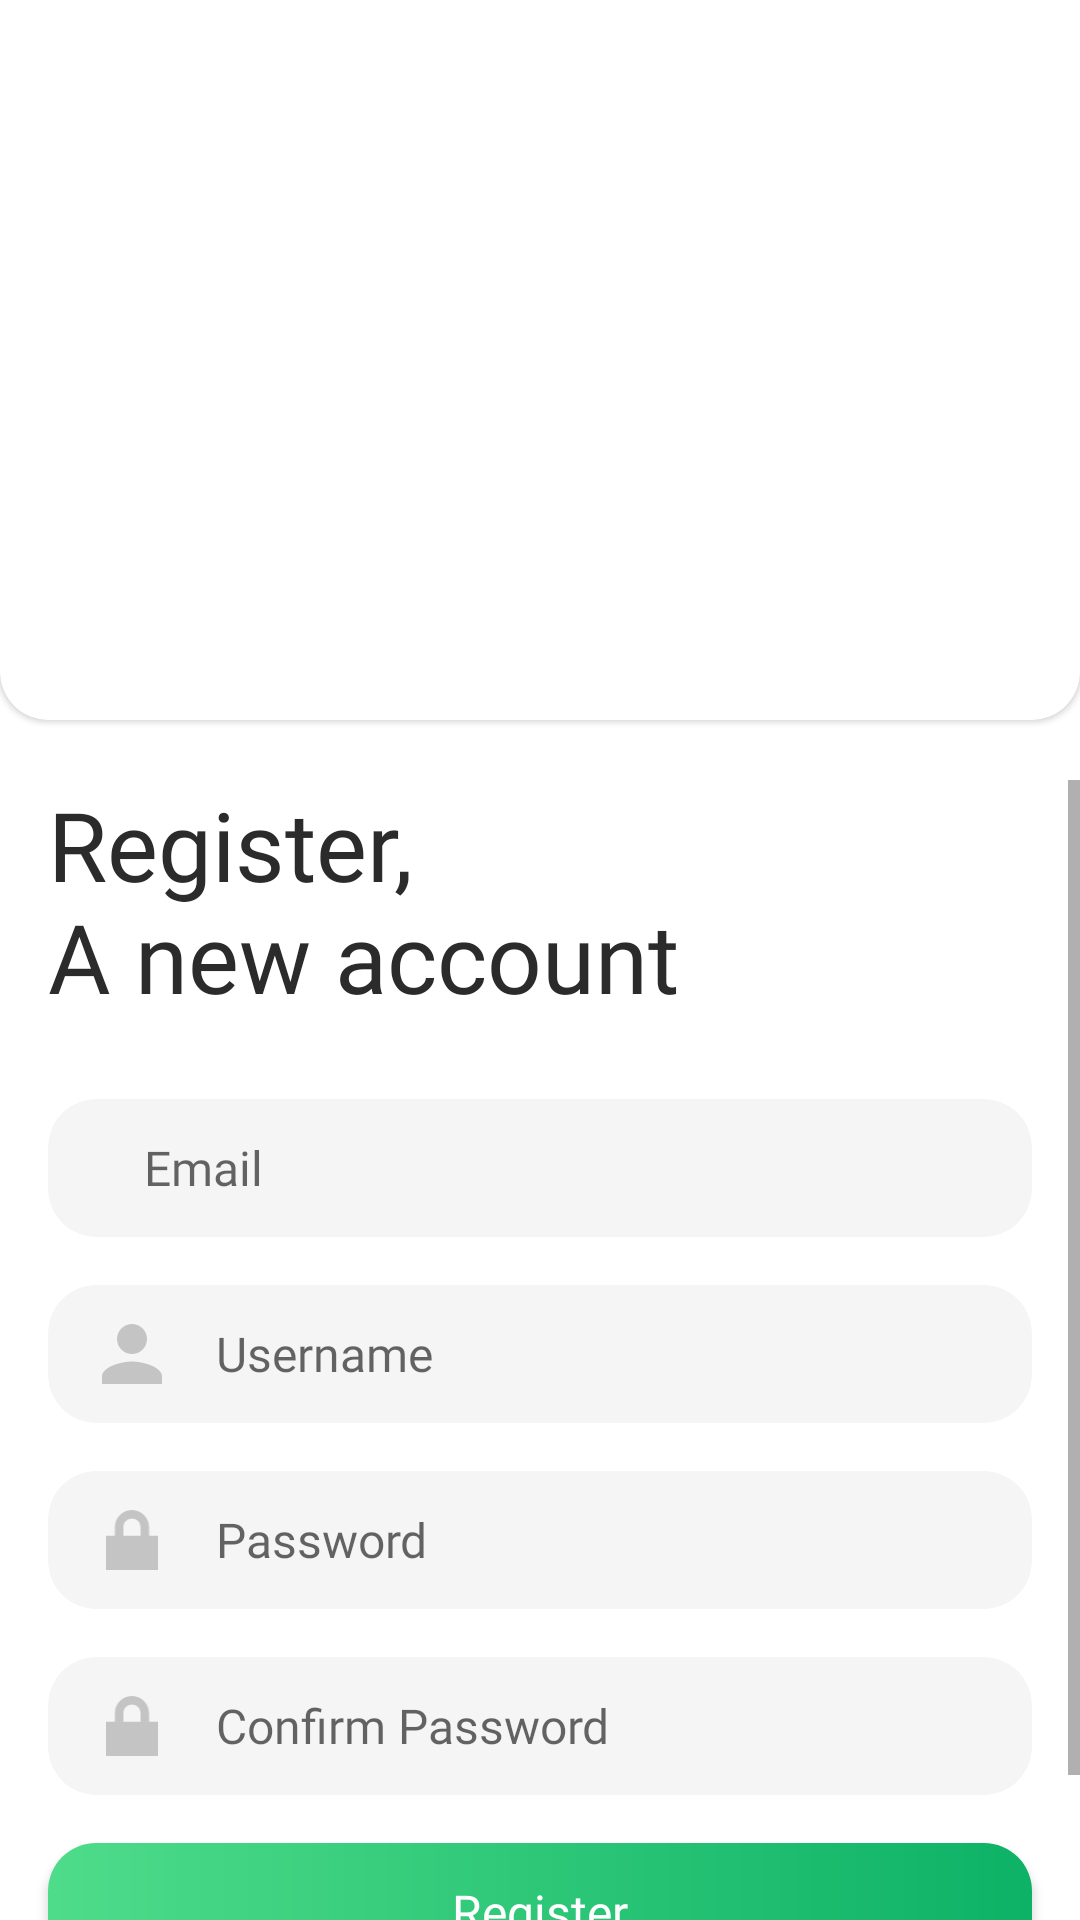

Where icons sit on this 1080x1920 app screen, as bbox(x1, y1, x2, y2):
lock: bbox(106, 1510, 158, 1570), bbox(106, 1696, 158, 1756)
person: bbox(102, 1324, 162, 1384)
